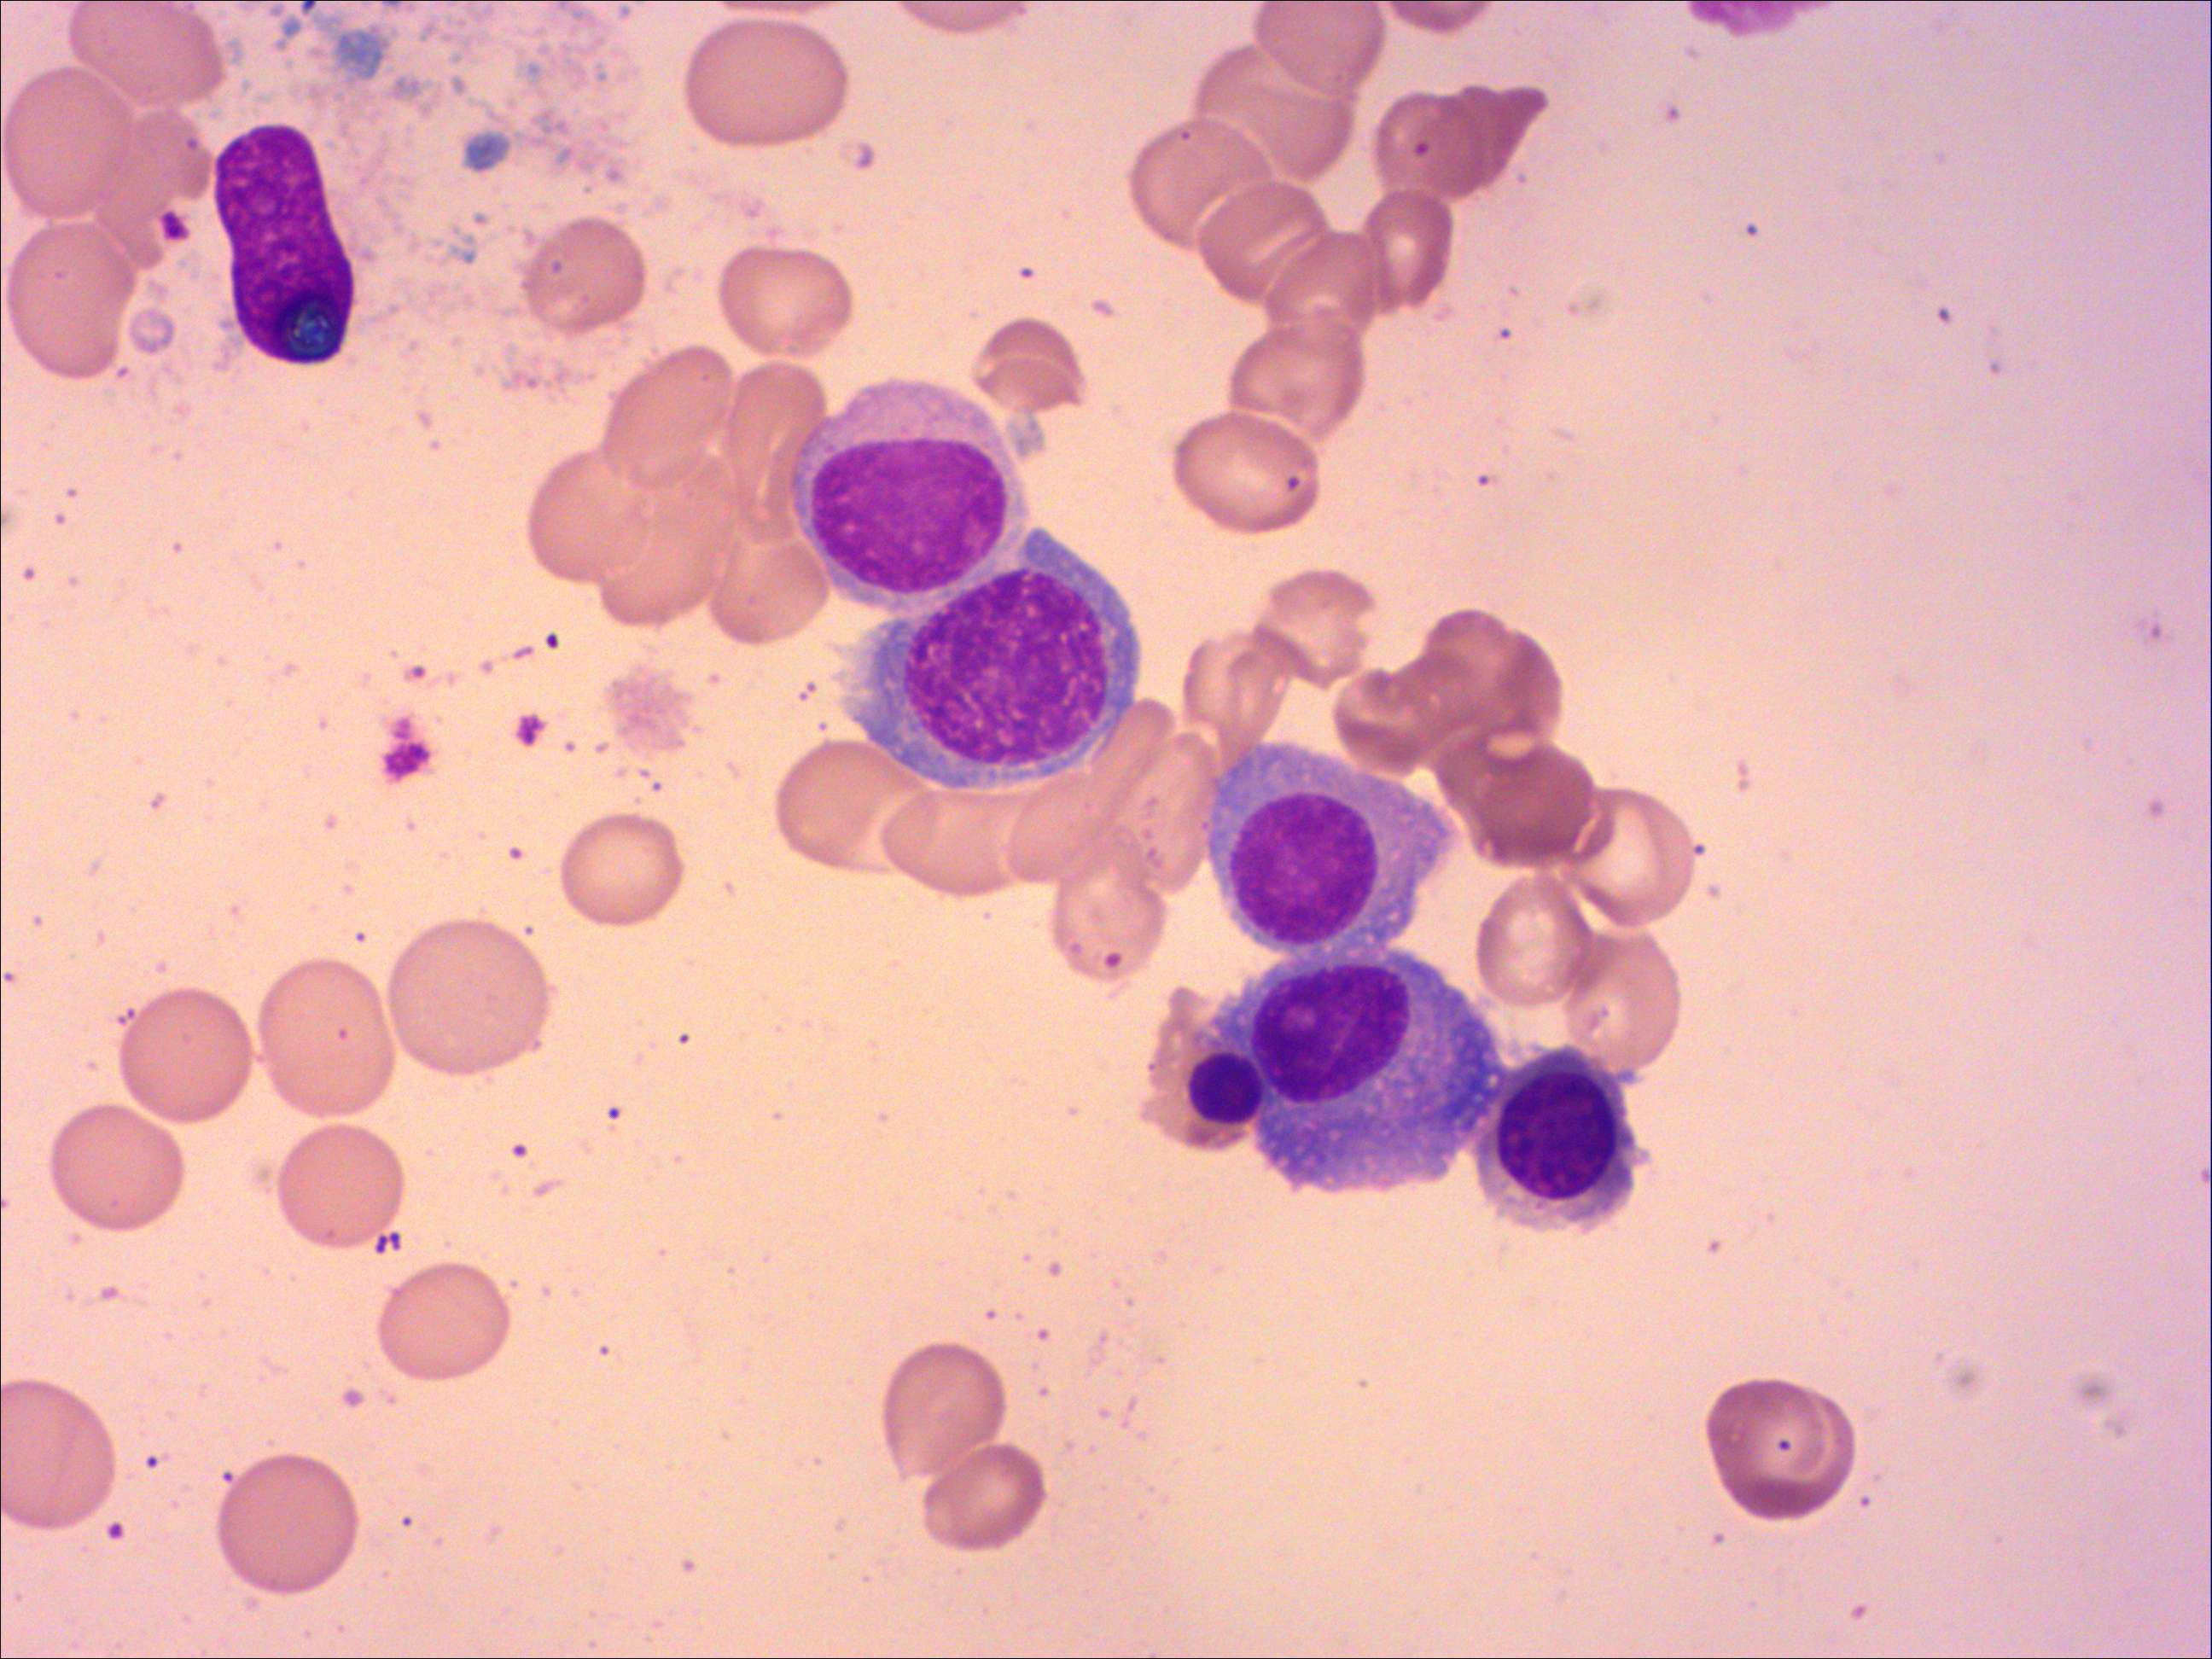23: (831, 525, 1146, 796), (1472, 1040, 1656, 1244)
24: (1179, 1044, 1273, 1136)
32: (787, 373, 1033, 620)
51: (1204, 938, 1510, 1199), (1202, 739, 1465, 960)
x: (211, 122, 359, 369)
